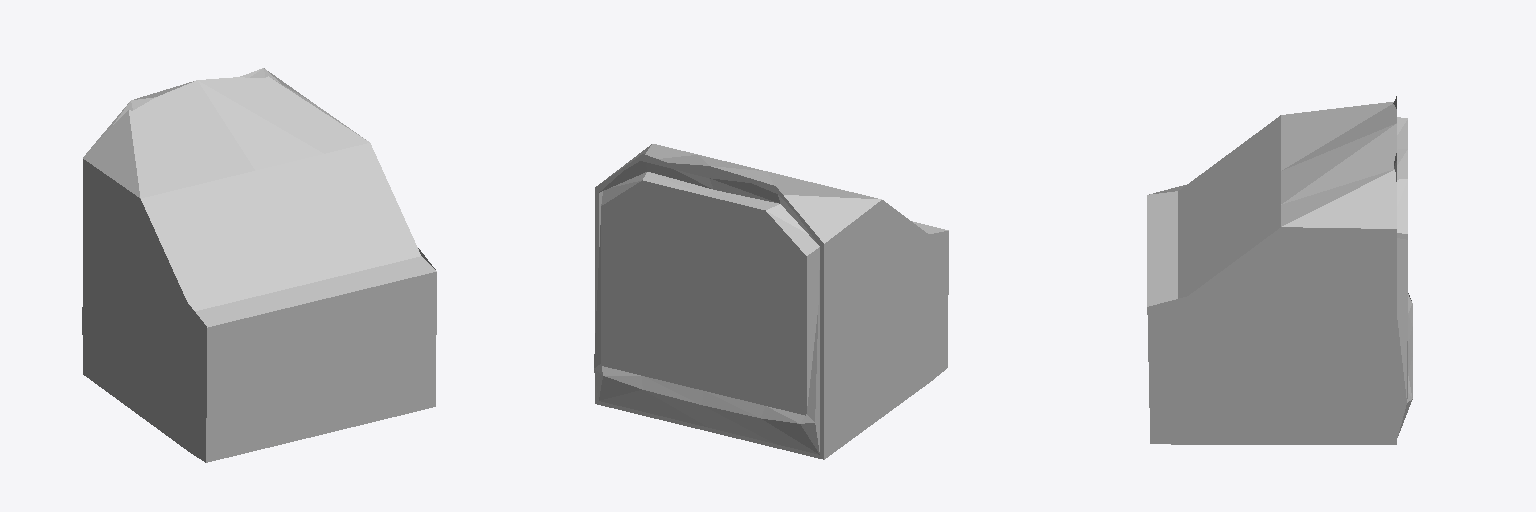
The model's file is computer_monitor.obj.
The picture shows the model from 3 angles: view 1: azimuth 30°, elevation 25°; view 2: azimuth 150°, elevation 25°; view 3: azimuth 270°, elevation 25°; orthographic projection.
Visible parts, largest first — view 1: Teen_comp_mon Teen_room; view 2: Teen_comp_mon Teen_room; view 3: Teen_comp_mon Teen_room.
Boxes of the visible parts, box(x1,y1,x2,y2) form: Teen_comp_mon Teen_room: box(82, 68, 436, 462); Teen_comp_mon Teen_room: box(594, 144, 948, 459); Teen_comp_mon Teen_room: box(1147, 96, 1412, 444).
Size of the model in its own units: 9.69 by 10.73 by 9.7.